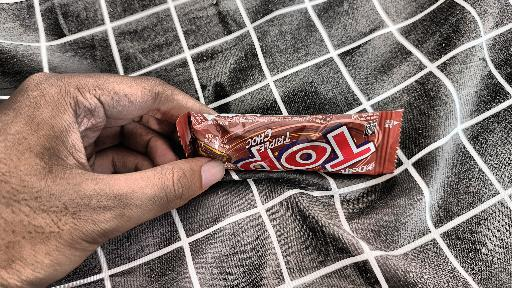top: (131, 91, 425, 190)
